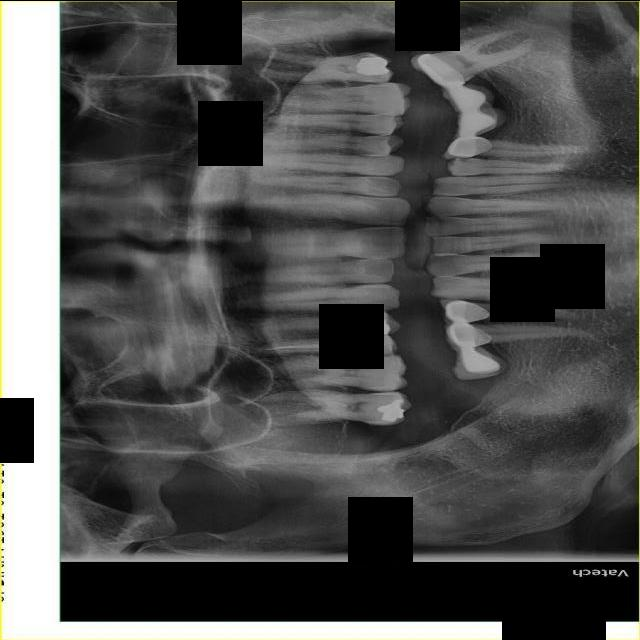71: (334, 336, 383, 349)
74: (261, 342, 346, 350)
NucleOSS Implant: (377, 397, 409, 425), (355, 54, 390, 77), (360, 317, 391, 338)
Sterngold Implant: (350, 51, 368, 59), (367, 81, 384, 87), (456, 156, 473, 162)
Straumann Implant: (351, 333, 400, 356)
Zimmer Implant: (406, 46, 469, 96), (452, 343, 507, 382), (455, 102, 511, 139), (440, 79, 496, 115), (442, 316, 492, 352), (437, 132, 493, 163), (440, 298, 489, 323)
